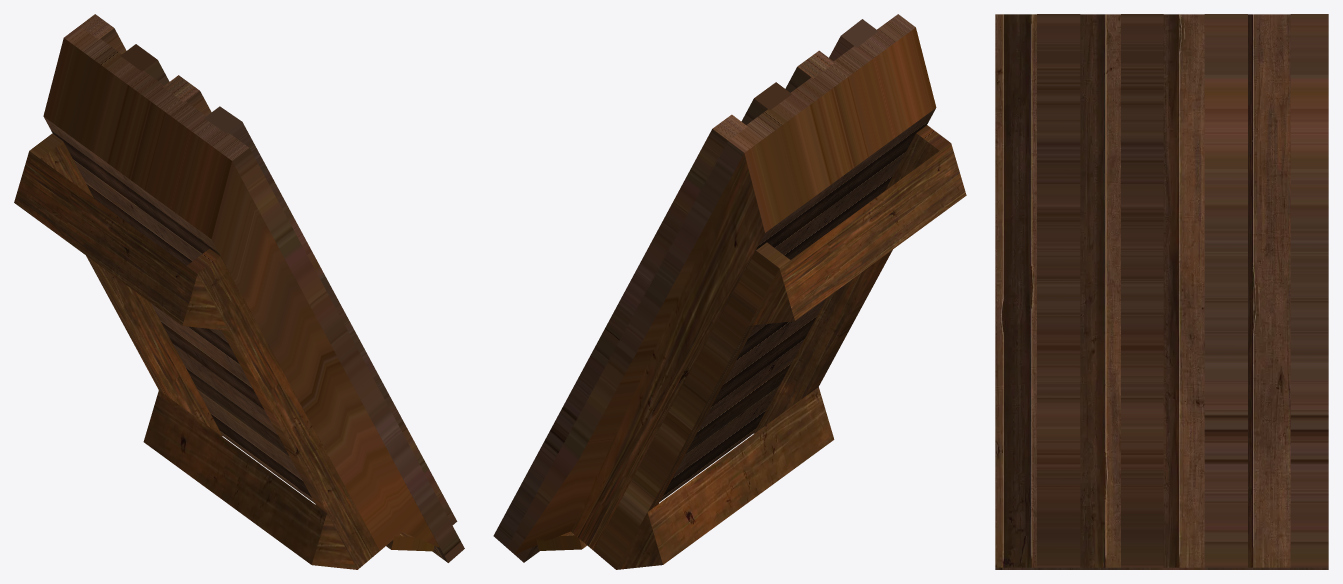
3 views of the same model, side by side, from view 1: azimuth 30°, elevation 25°; view 2: azimuth 150°, elevation 25°; view 3: azimuth 270°, elevation 25° (orthographic). The views are drawn at different scales.
Parts seen in each view (by area): view 1: SM_BB_T2_Roof_Med_Steep_LOD0; view 2: SM_BB_T2_Roof_Med_Steep_LOD0; view 3: SM_BB_T2_Roof_Med_Steep_LOD0.
Part boxes in pixels (x1=…): SM_BB_T2_Roof_Med_Steep_LOD0: x1=14, y1=14, x2=464, y2=569; SM_BB_T2_Roof_Med_Steep_LOD0: x1=493, y1=14, x2=966, y2=569; SM_BB_T2_Roof_Med_Steep_LOD0: x1=995, y1=14, x2=1328, y2=569.
Size of the model in its own units: 1.53 by 2.32 by 1.5.
Materials: 2 (2 with a texture image).
